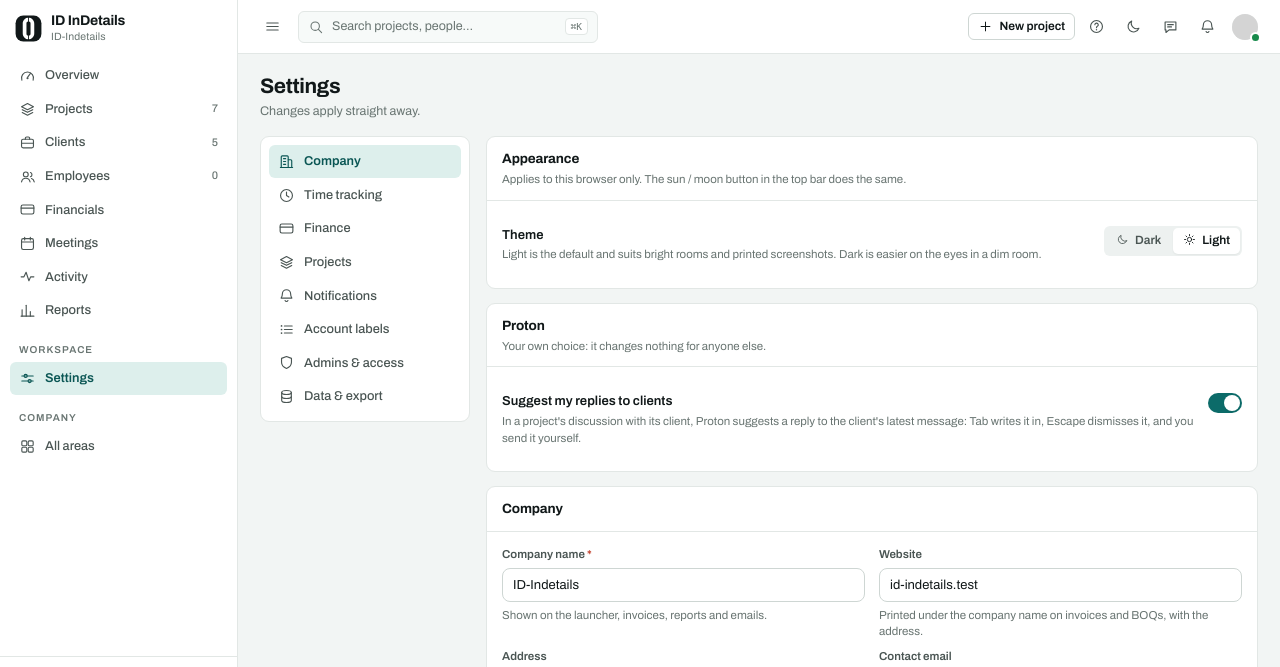
Settings › saves the company's details for a super admin, with the rest as they were
The image size is (1280, 667).
Replace the text in the field labelled "Company name" with "ID Indetails SAL" at {"x": 684, "y": 585}, box [502,568,865,602]
(page scrolled)
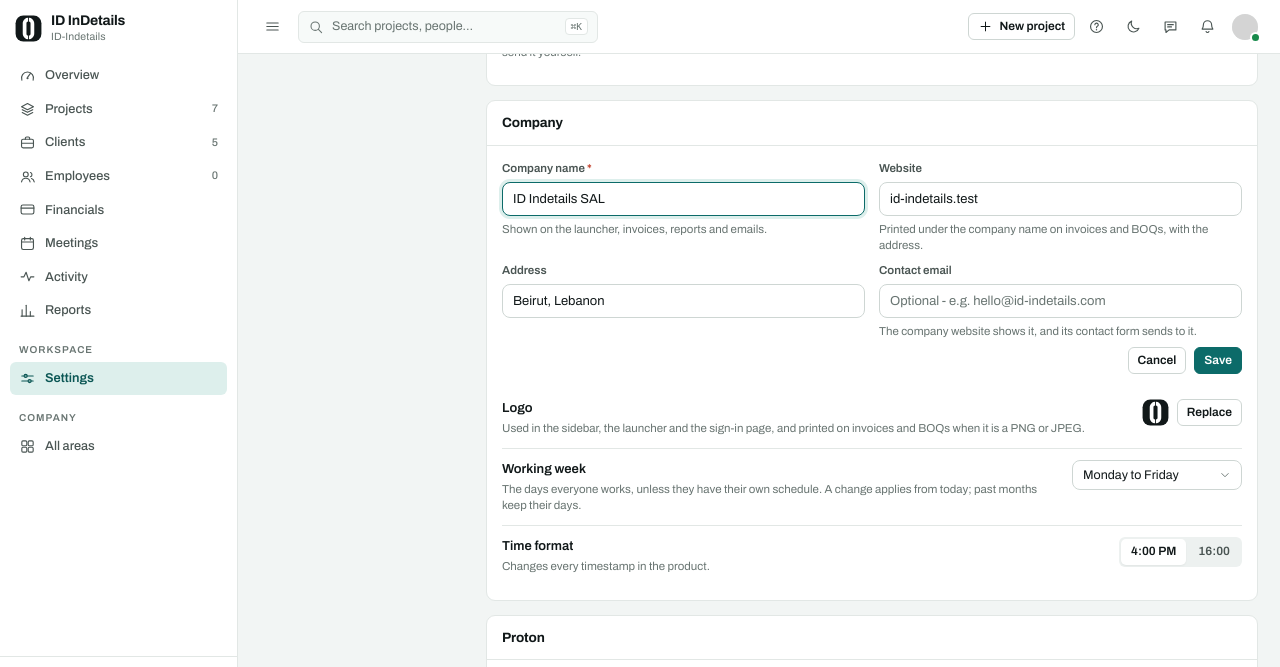
Click the button "Save" at {"x": 1218, "y": 361}, box [1194,347,1242,374]
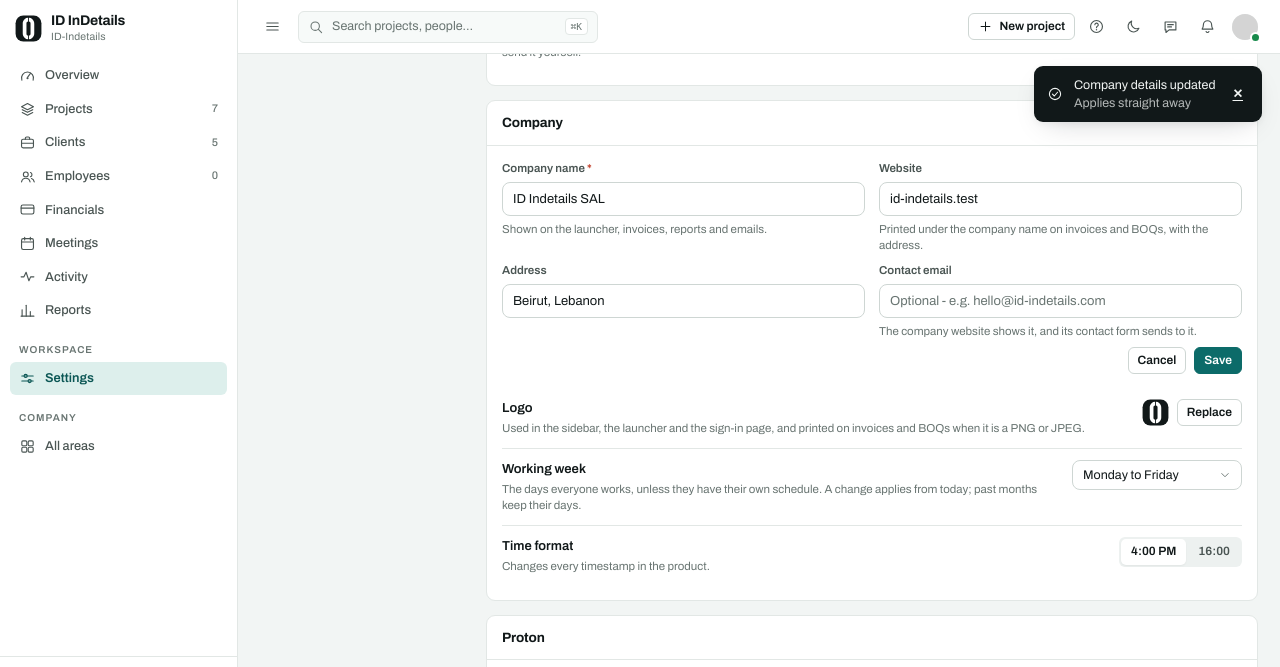
Result: the text "Company details updated" is shown at [1074,76,1216,94]
